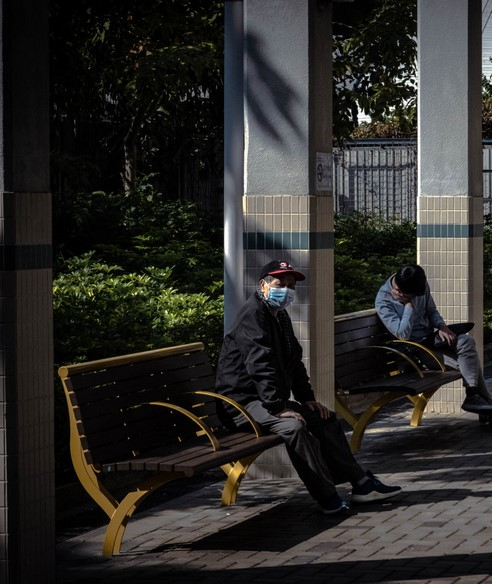face_with_mask: (258, 256, 303, 314)
